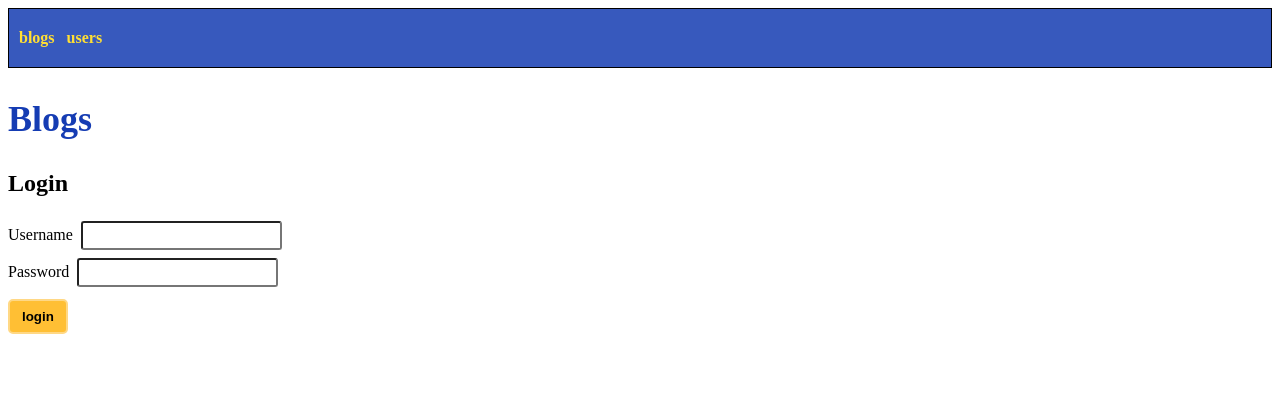
it: Blog app › Login › fails with wrong credentials
The image size is (1280, 418).
Type "cat0" into the field with id "username-login" at {"x": 182, "y": 236}, box [81, 221, 282, 250]
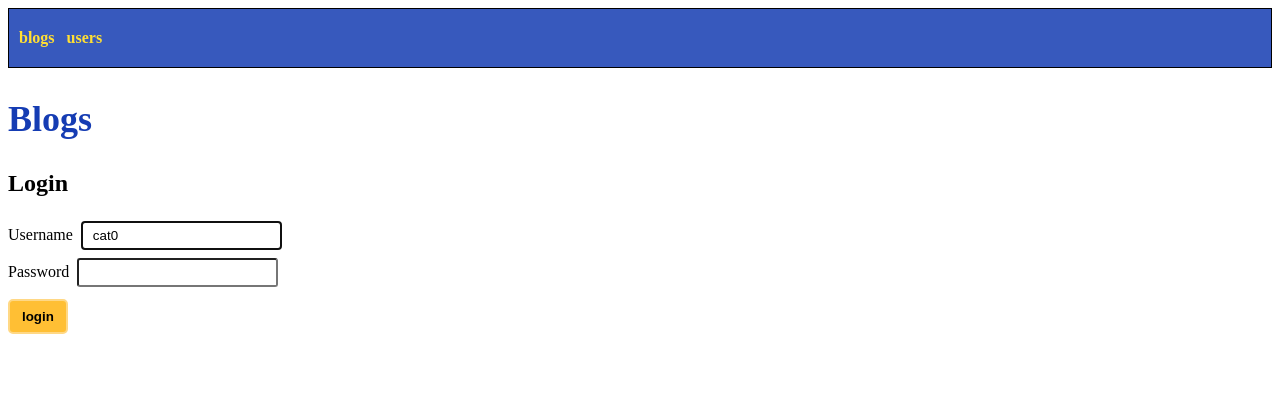
Type "kek" into the password field at {"x": 178, "y": 273}, box [77, 258, 278, 287]
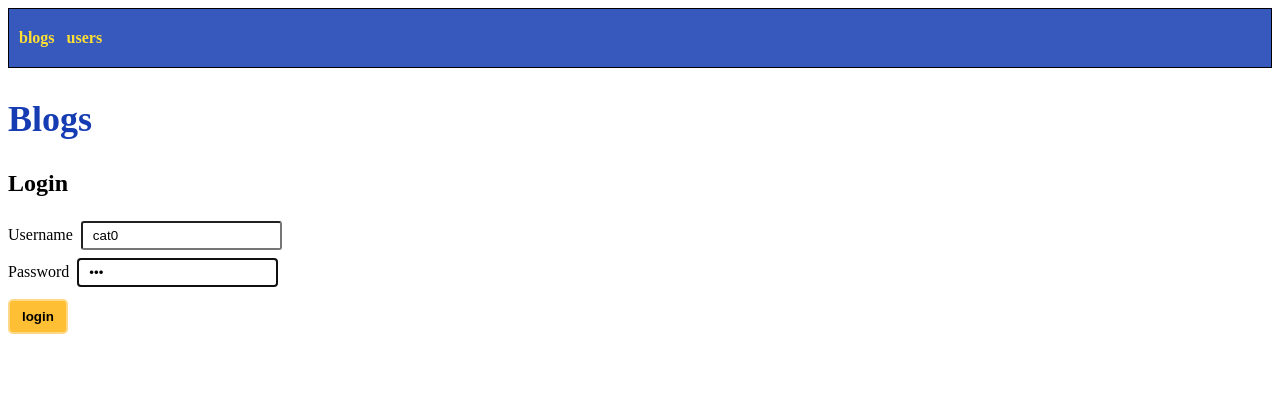
Click the button with id "submit-login" at {"x": 38, "y": 317}, box [8, 299, 68, 334]
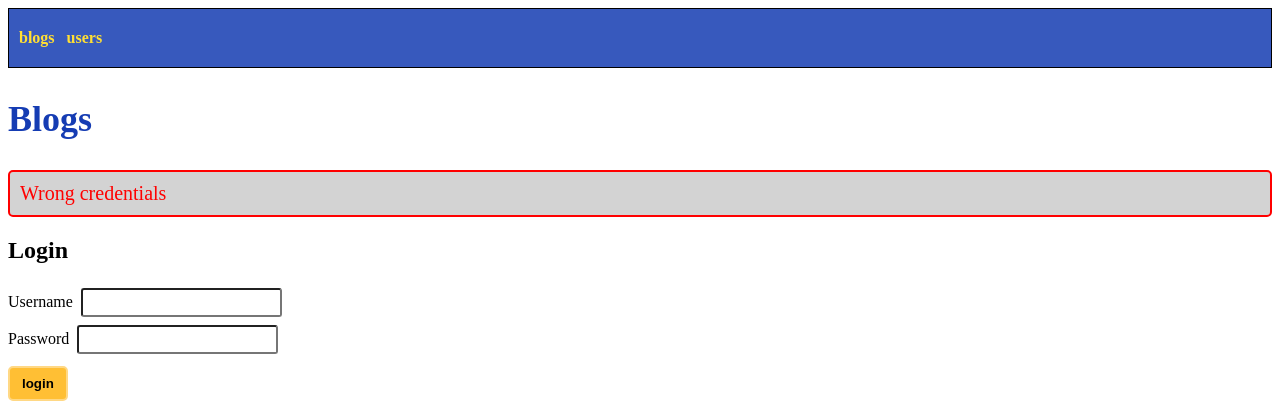
Check: the text "Wrong credentials" is shown, box [8, 170, 1272, 217]
